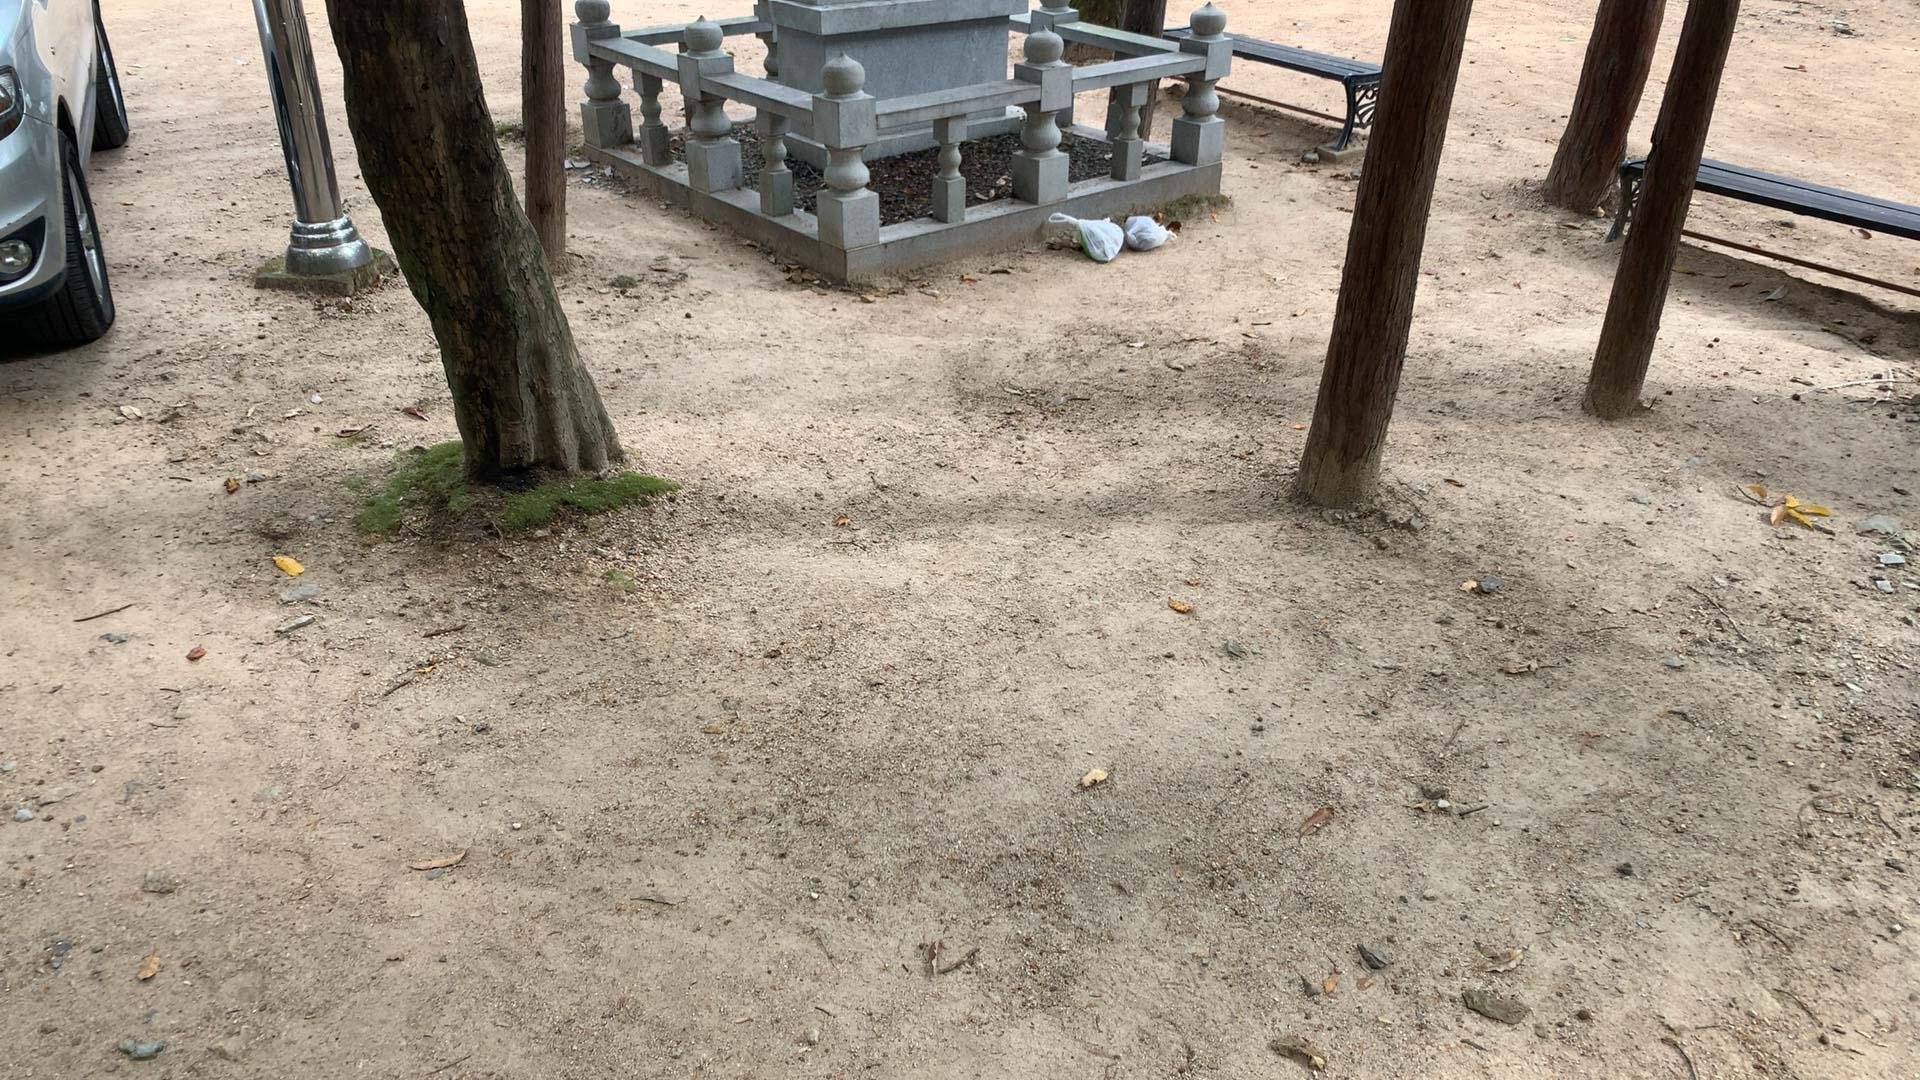white_bag: (1038, 203, 1128, 263), (1121, 213, 1179, 252)
